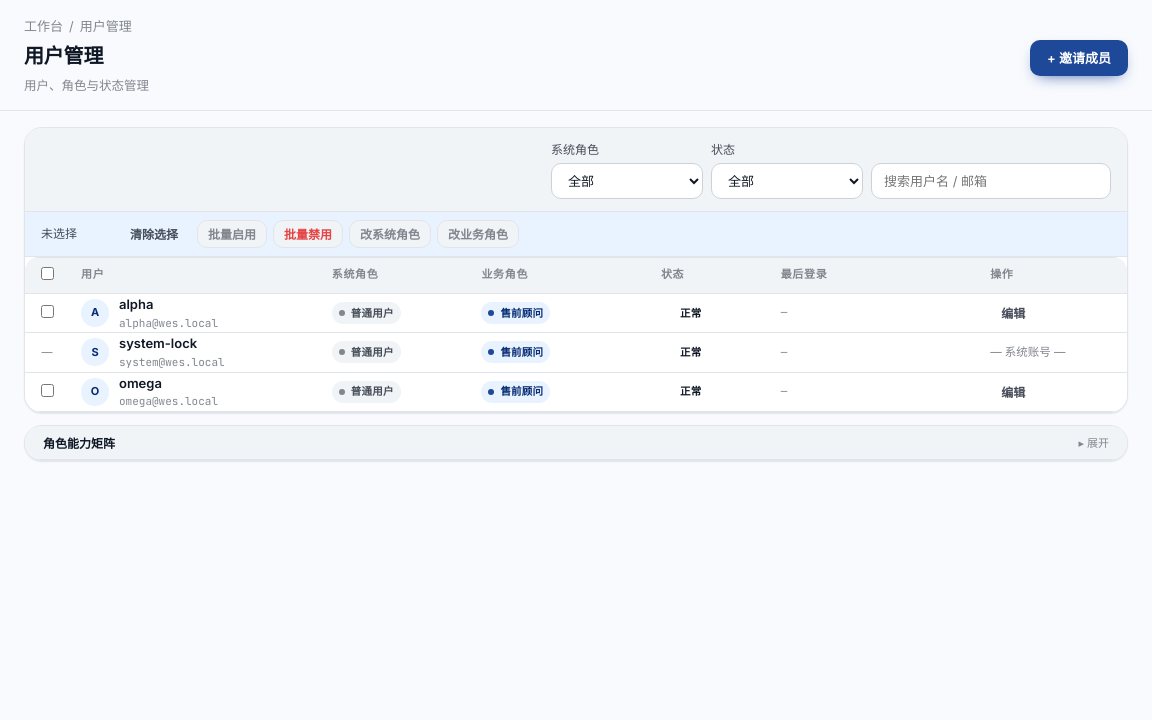
UserManagement › excludes locked users from shift-range selection and bulk targets
The image size is (1152, 720).
Click the text "alpha". click: coordinates (576, 313)
box: [25,293,1127,333]
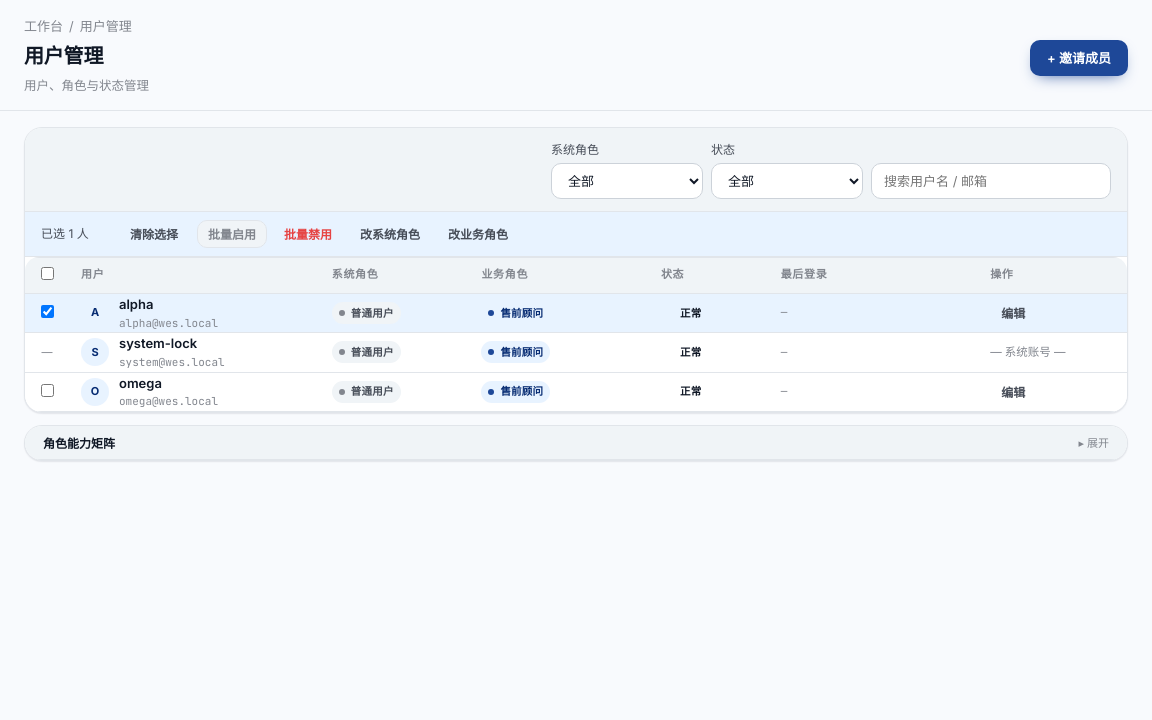
Click the text "omega". click: coordinates (576, 392)
box: [25,372,1127,411]
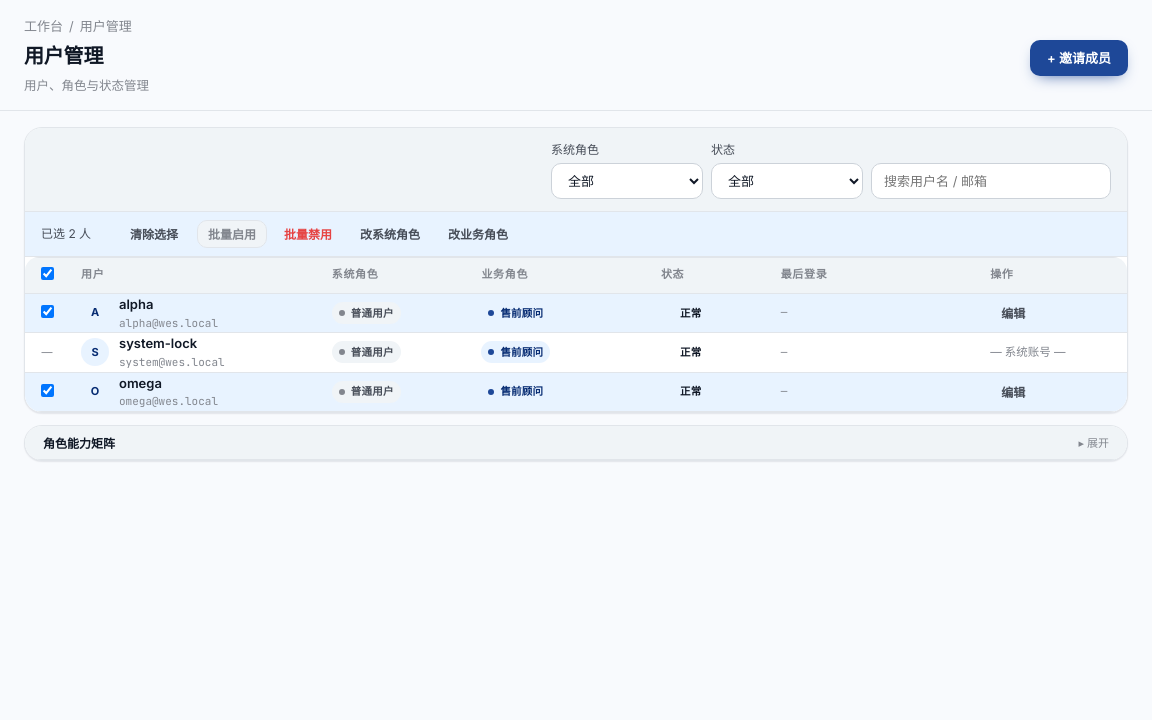
expect the element named "批量操作" shows "已选 2 人": met, box [41,226,91,241]
Click the button "批量禁用". click: coordinates (308, 234)
box: [273,220,343,248]
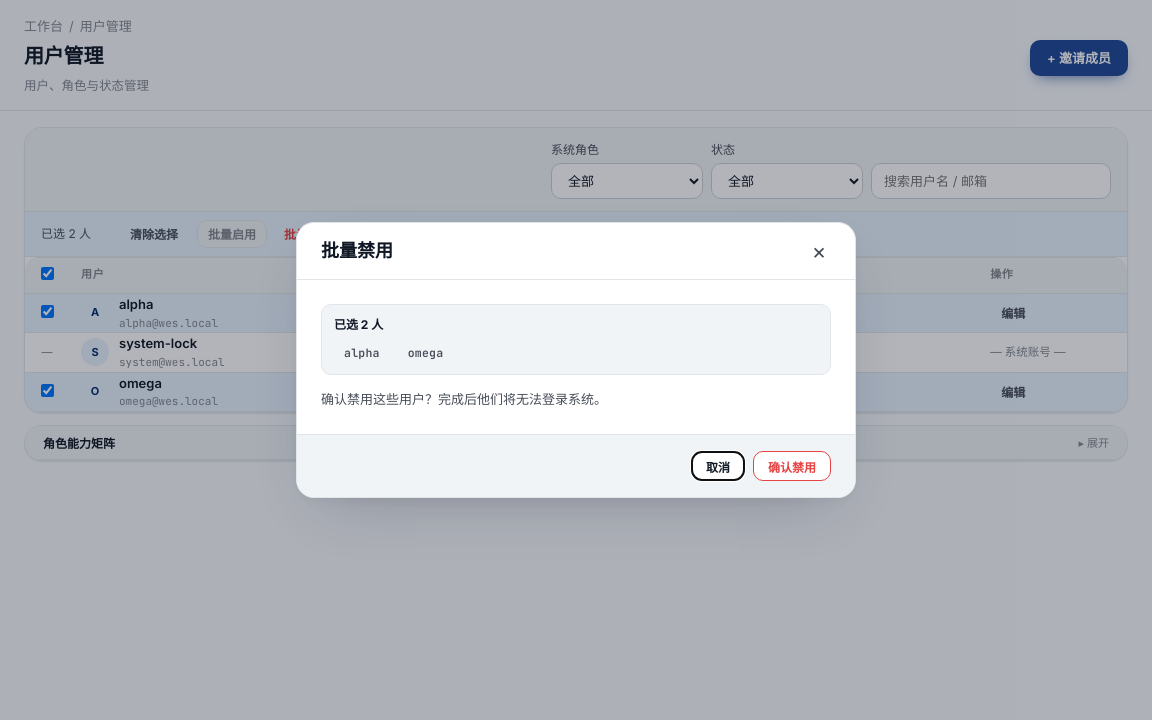
expect the list item "alpha" is shown: met, box [334,342,390,364]
expect the list item "omega" is shown: met, box [398,342,453,364]
Click the button "确认禁用". click: coordinates (792, 466)
box: [753,451,831,481]
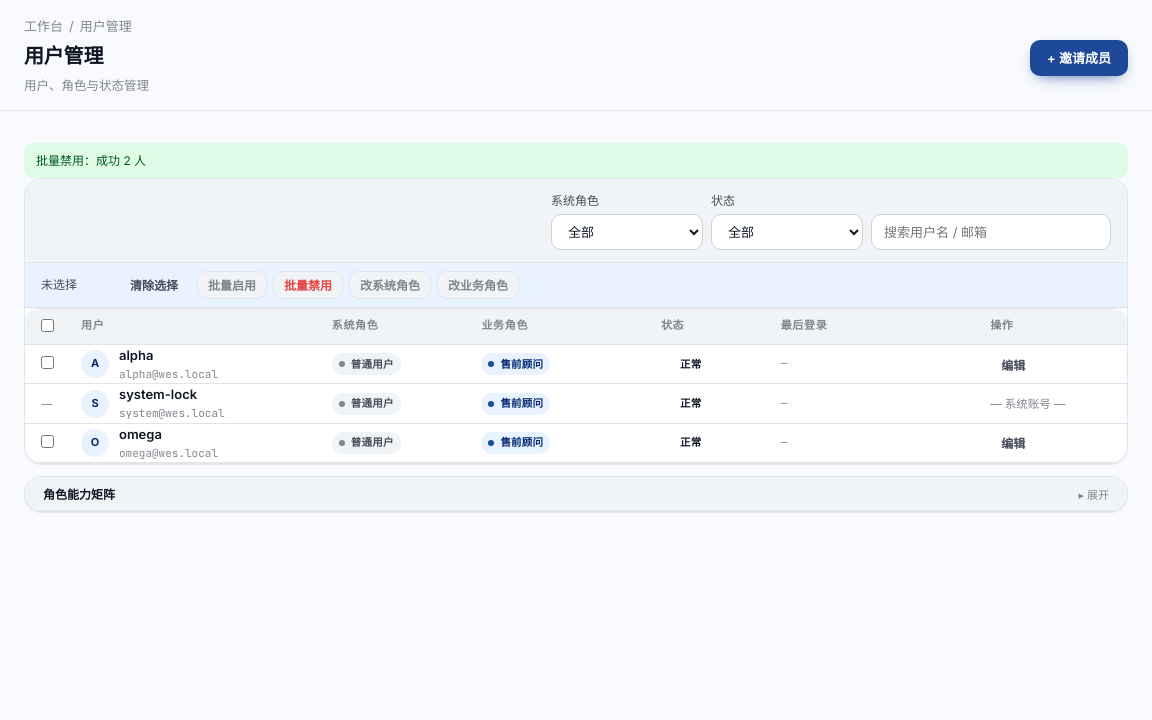
expect the text "正常" is shown: met, box [680,396,701,410]
expect the text "批量禁用：成功 2 人" is shown: met, box [24,142,1128,178]
